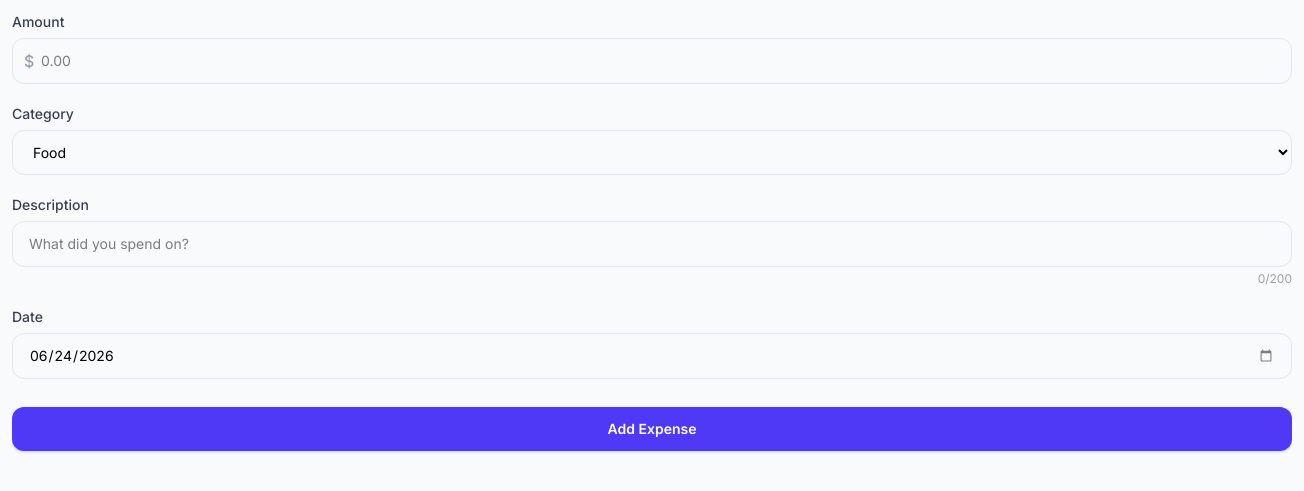
Test: ExpenseForm — validation › shows an error when description is empty
This screenshot has width=1304, height=491.
Type "10" into the number field with placeholder "0.00" at {"x": 652, "y": 61}, box x1=12 y1=38 x2=1292 y2=84
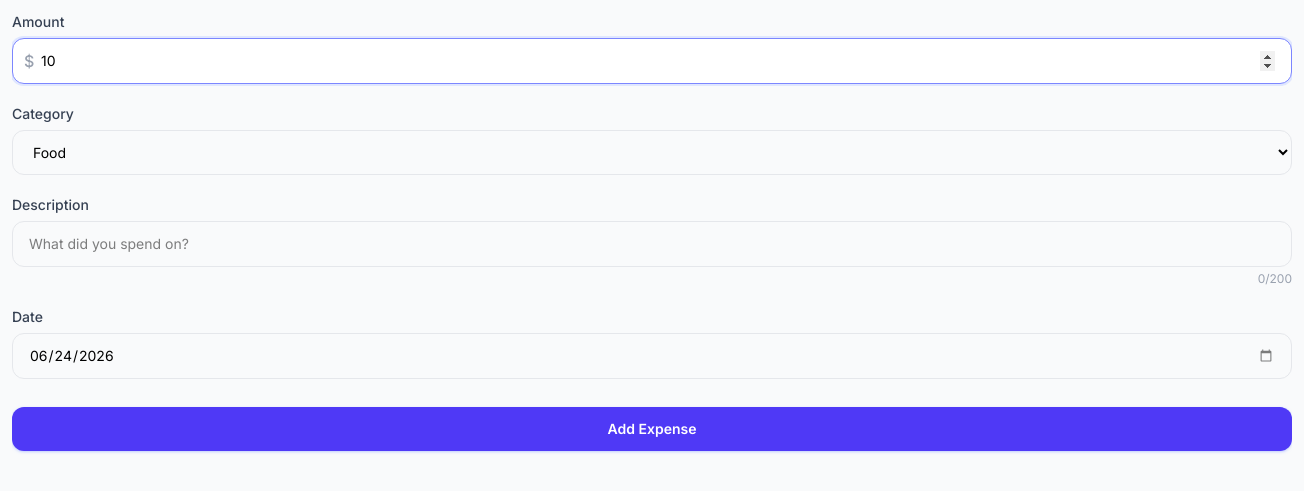
Click the button "Add Expense" at {"x": 652, "y": 429}, box x1=12 y1=407 x2=1292 y2=451
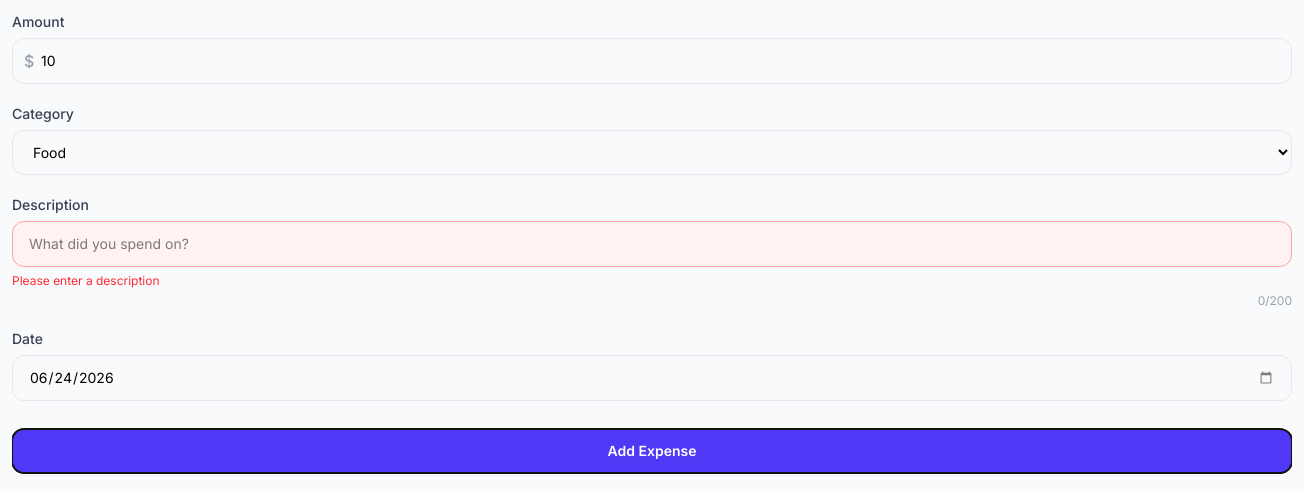
Check: the text "Please enter a description" is shown, box x1=12 y1=273 x2=160 y2=288
